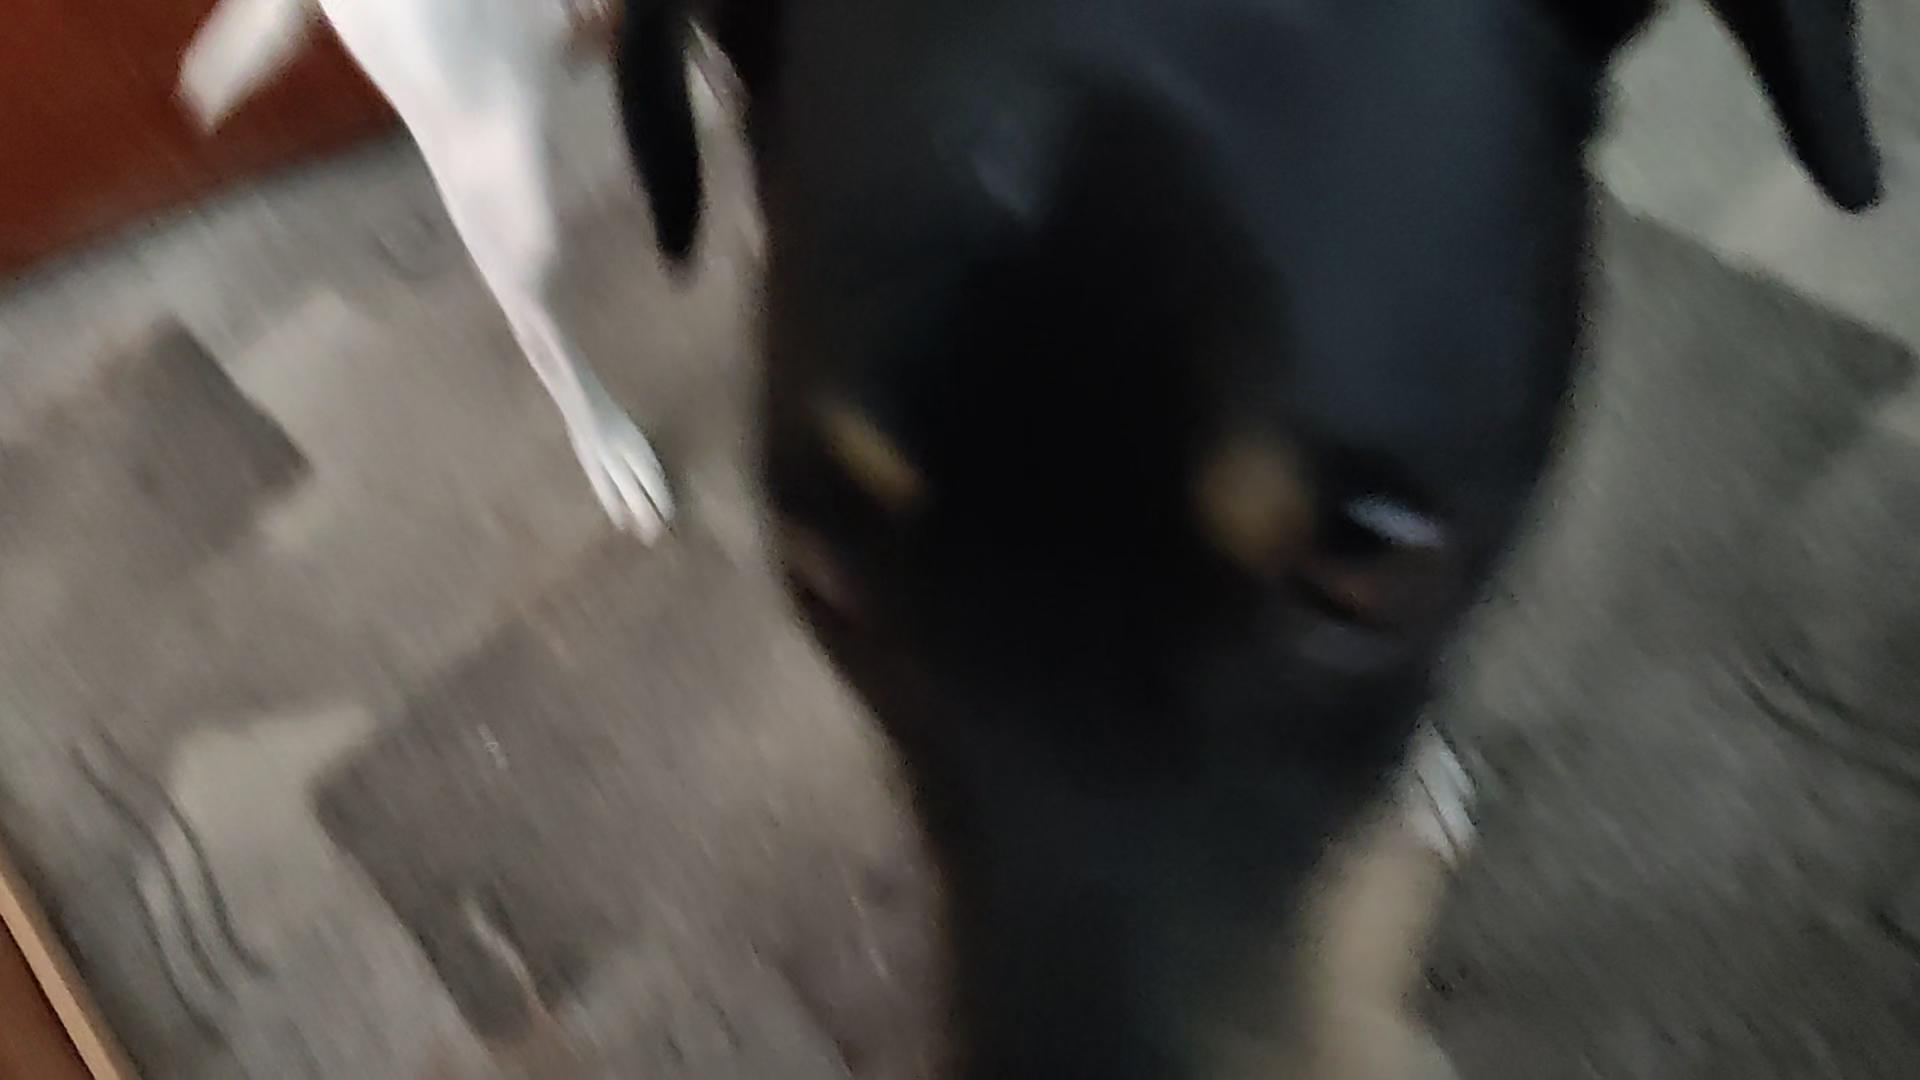Dog: (160, 0, 1902, 1080)
